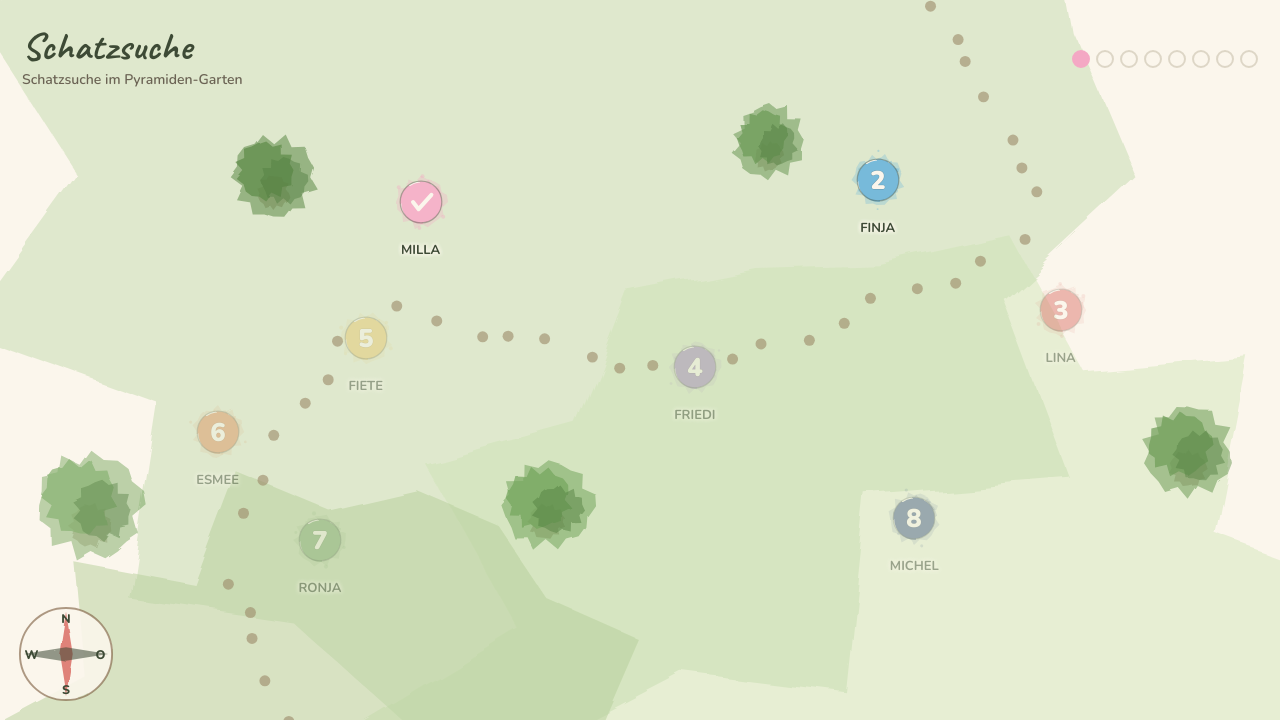
MapScreen › activates marker 3 (FRIEDI) after marker 2 is solved
The image size is (1280, 720).
Click the button with test id "station-marker-2" at (878, 180), box [838,140,918,220]
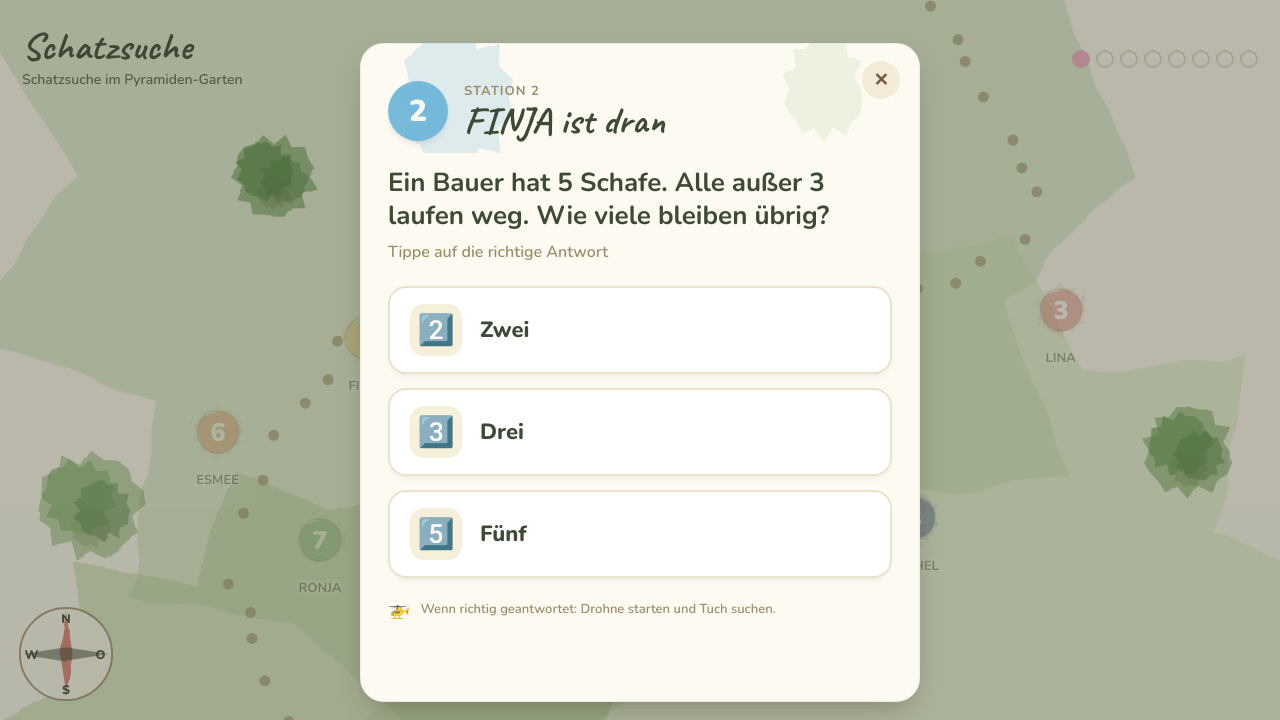
Click the button "3️⃣ Drei" at (436, 432), box [388,388,892,476]
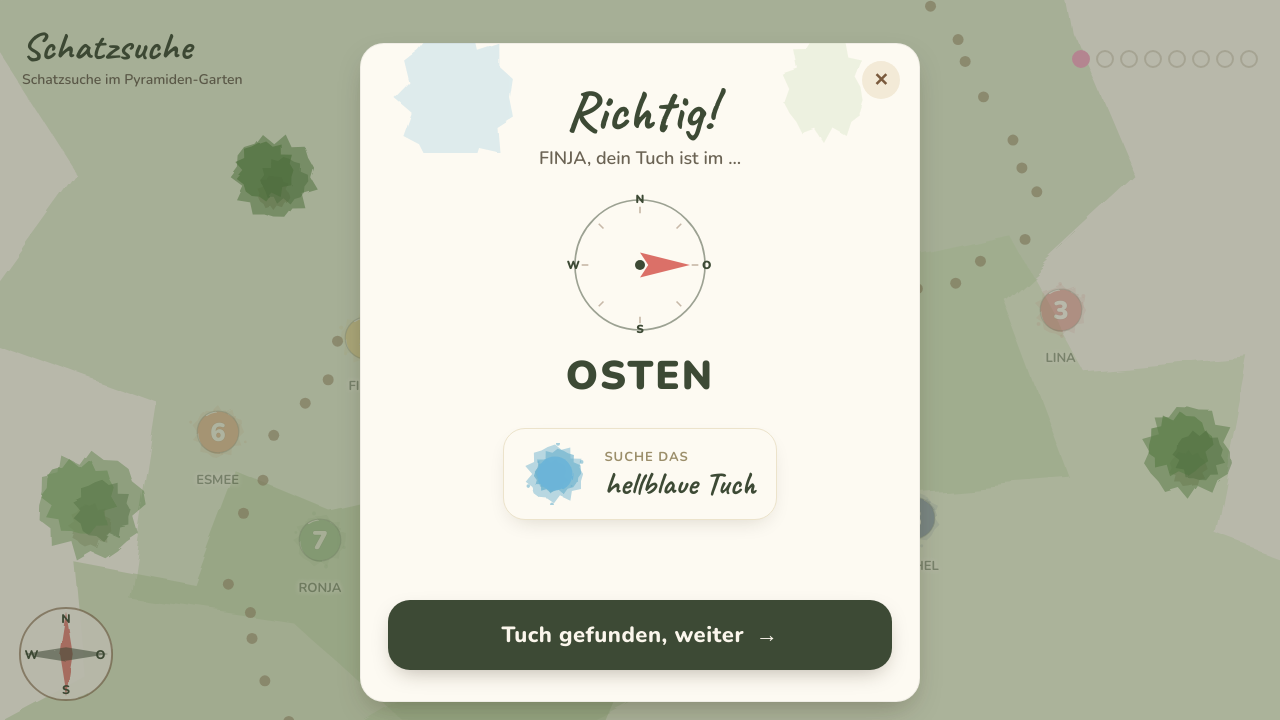
Click the button "Tuch gefunden, weiter →" at (640, 635), box [388,600,892,670]
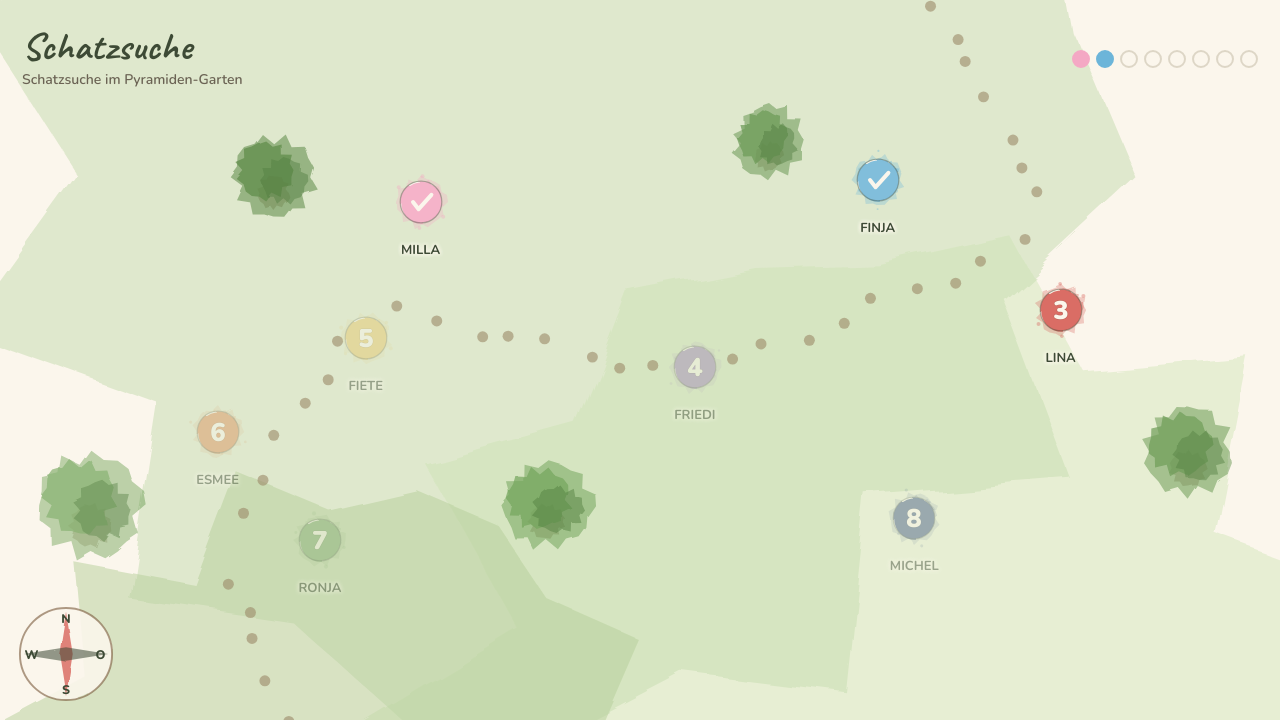
Check: the button with test id "station-marker-3" is enabled, box [1021,270,1101,350]
